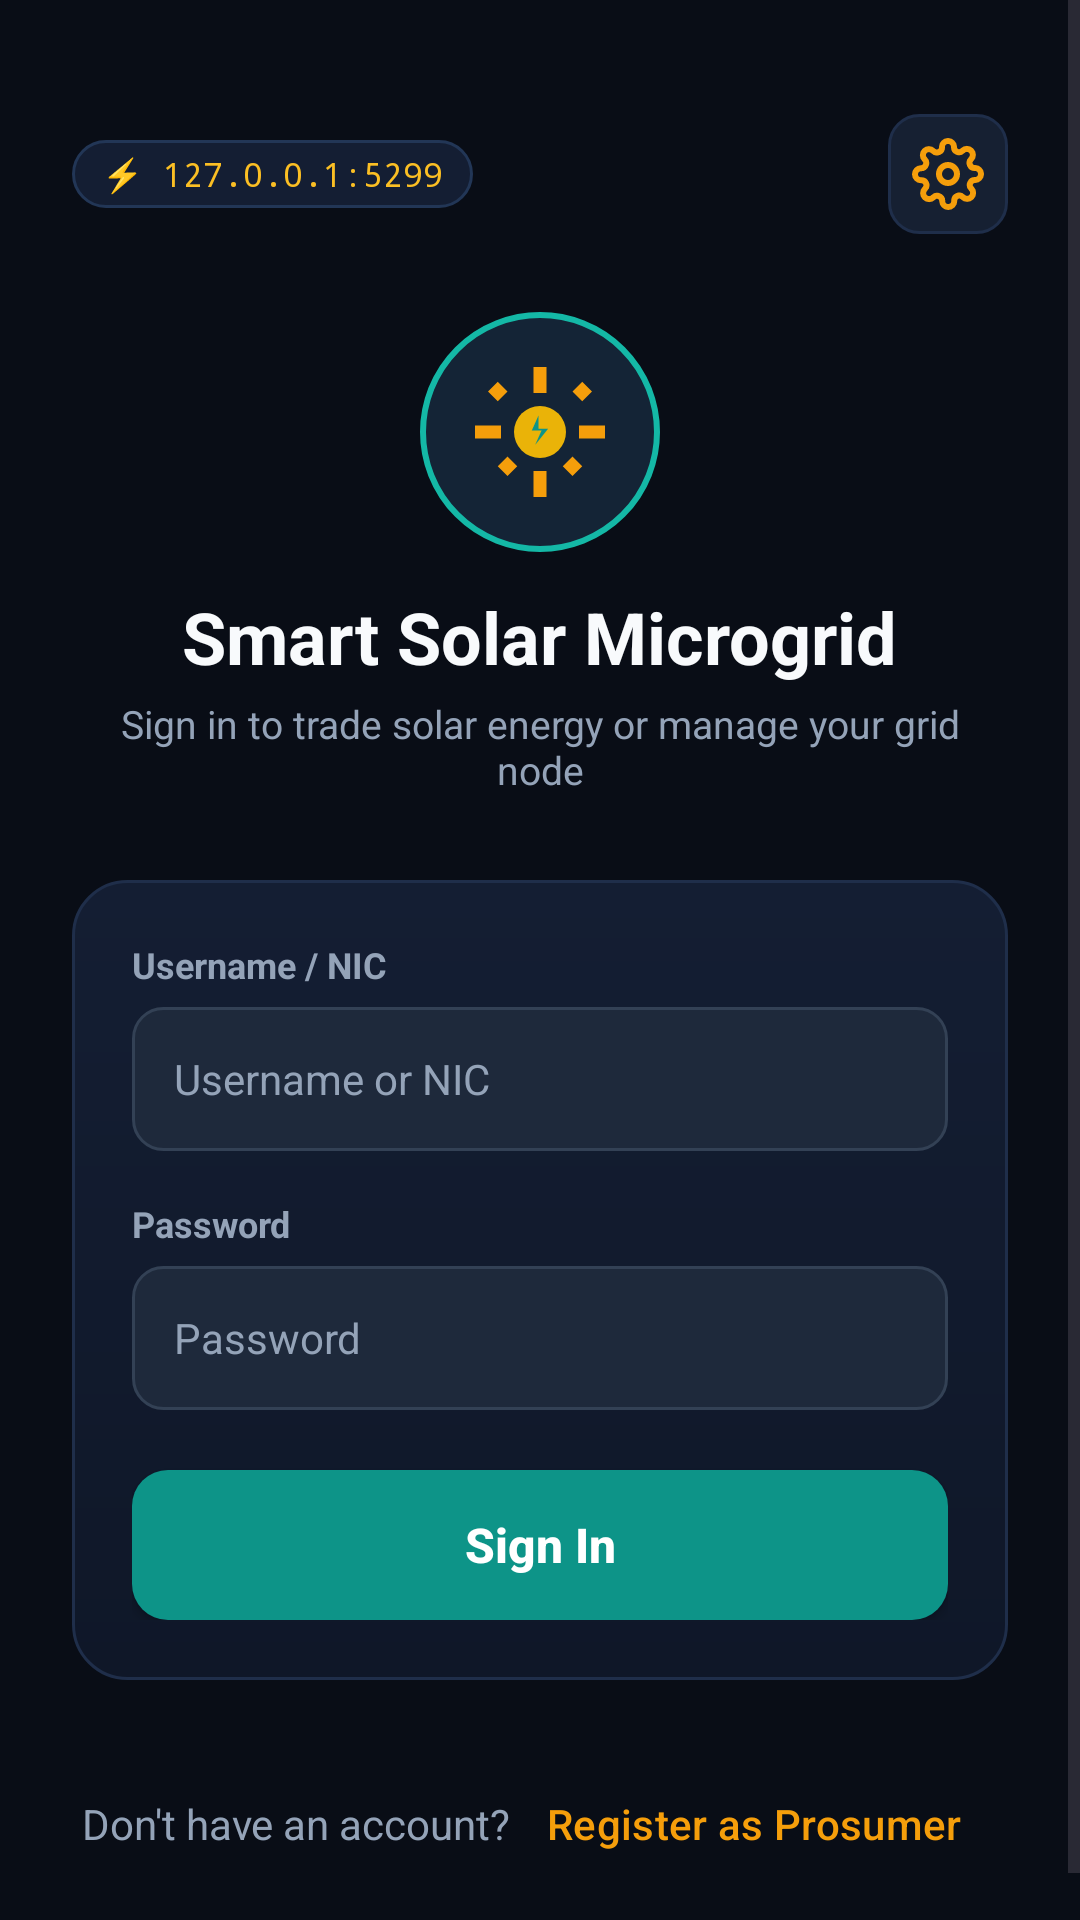

Where to tap for icons on this 1080px x 1920px app screen, as [x,y]:
Server Connection Settings: [948,174]
